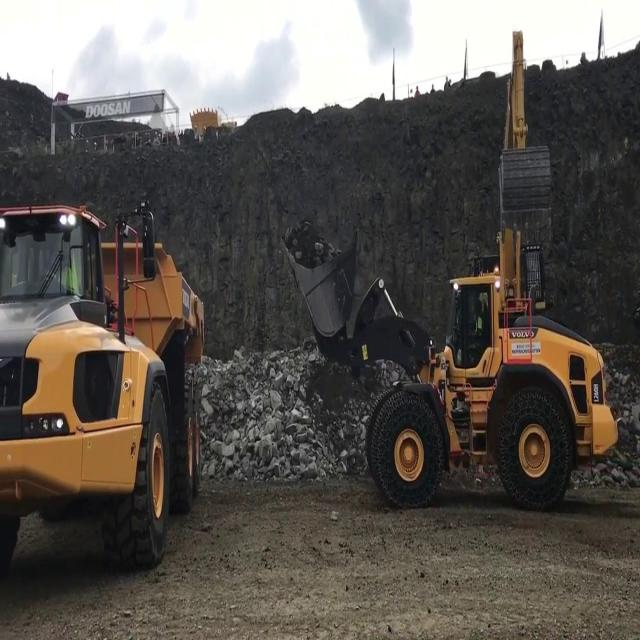buldozerpayloadergrader: (279, 230, 615, 511)
dump_truck: (0, 212, 210, 564)
excavator: (494, 31, 547, 325)
